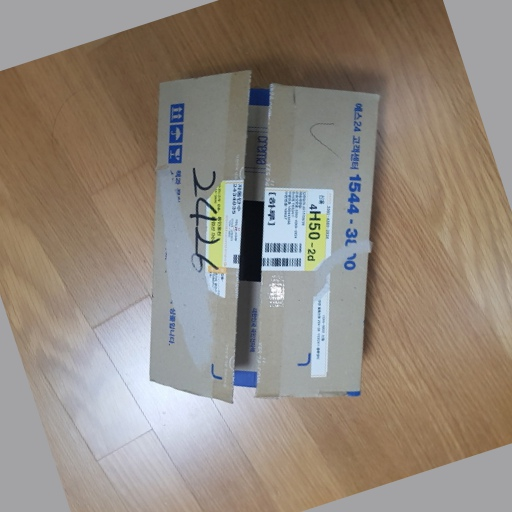Paper_0: (147, 71, 390, 414)
